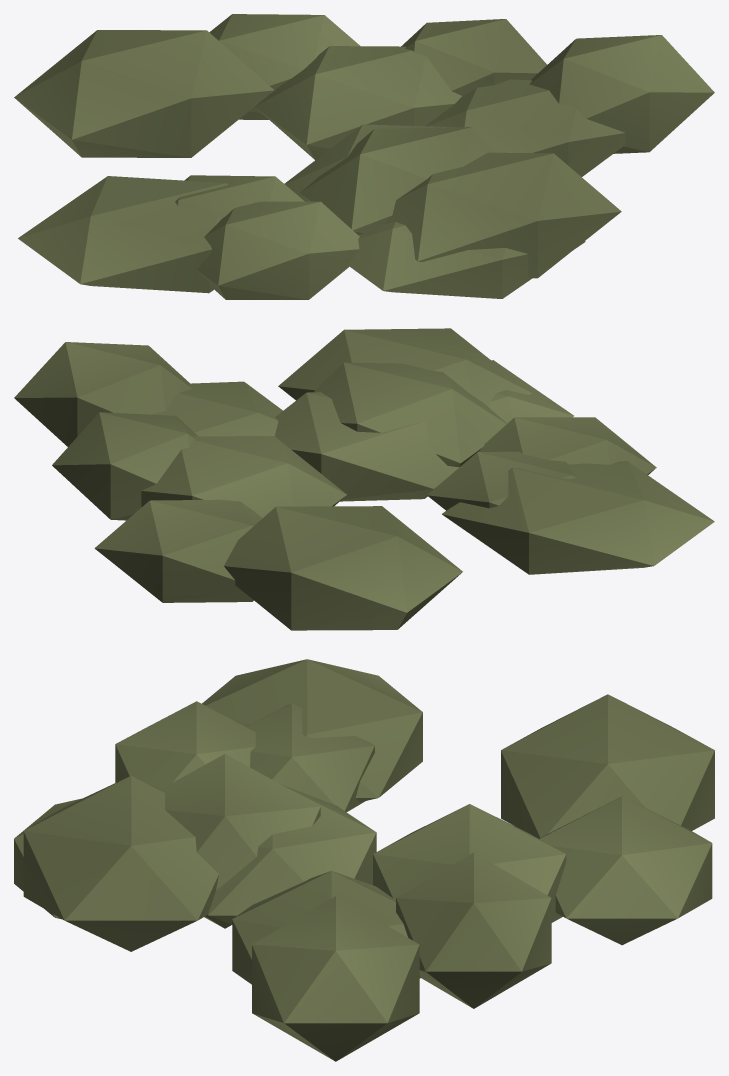
File: iron-cushion.glb
The picture shows the model from 3 angles, top to bottom: view 1: azimuth 30°, elevation 25°; view 2: azimuth 150°, elevation 25°; view 3: azimuth 270°, elevation 25°; orthographic projection. The views are drawn at different scales.
Visible parts, largest first — view 1: Подушковидное растение; view 2: Подушковидное растение; view 3: Подушковидное растение.
Boxes of the visible parts, x1,y1,x2,y2 form: Подушковидное растение: [14, 14, 714, 299]; Подушковидное растение: [14, 328, 714, 630]; Подушковидное растение: [14, 659, 714, 1061].
Bounding box in the file's own units: 1.53 × 0.2257 × 1.24.
